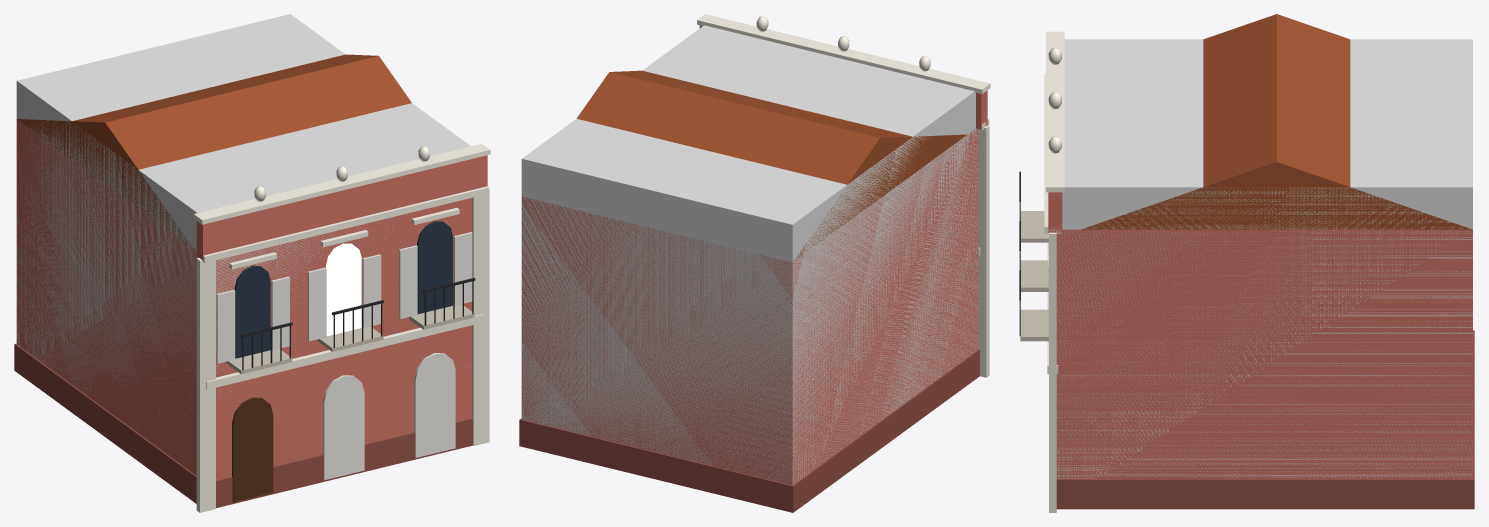
File: sobrado_2.glb
The picture shows the model from 3 angles, left to right: view 1: azimuth 30°, elevation 25°; view 2: azimuth 150°, elevation 25°; view 3: azimuth 270°, elevation 25°; orthographic projection. The views are drawn at different scales.
Visible parts, largest first — view 1: sobrado_2_Malla, COL_0; view 2: COL_0, sobrado_2_Malla; view 3: sobrado_2_Malla, COL_0.
Part boxes in pixels (x1,y1,x2,y2): sobrado_2_Malla: [14, 54, 490, 512]; COL_0: [16, 14, 470, 474]; COL_0: [521, 25, 978, 485]; sobrado_2_Malla: [519, 14, 990, 512]; sobrado_2_Malla: [1019, 14, 1474, 512]; COL_0: [1056, 39, 1472, 478].
Size of the model in its own units: 7.94 by 8.2 by 9.76.
